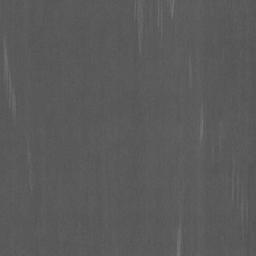Silk spot: (143, 0, 175, 32), (204, 109, 214, 145), (0, 40, 5, 99), (129, 16, 138, 47), (244, 208, 256, 229), (181, 231, 189, 256), (15, 86, 24, 108), (235, 187, 241, 208)
